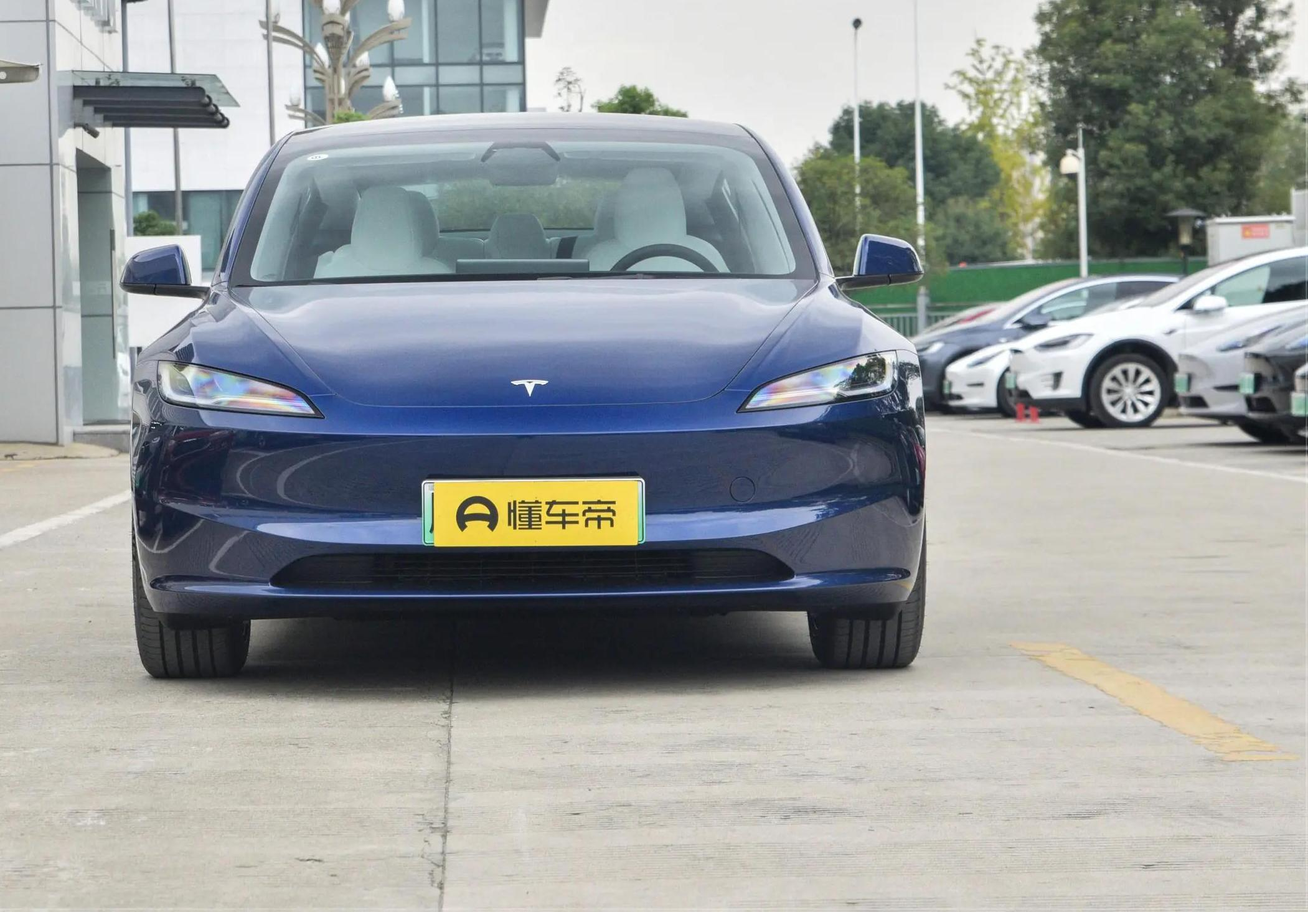Tesla: (510, 380, 548, 397)
